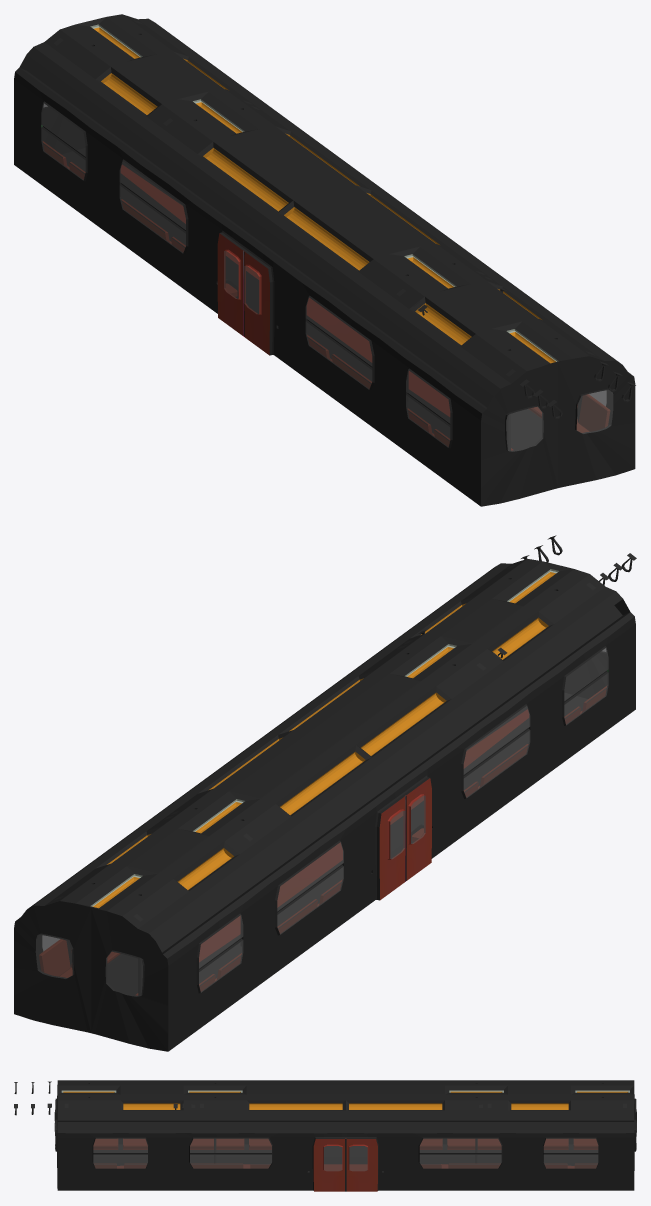
Rendered from subwayV2.obj.
3 views of the same model, one above another, from view 1: azimuth 30°, elevation 25°; view 2: azimuth 150°, elevation 25°; view 3: azimuth 270°, elevation 25° (orthographic). The views are drawn at different scales.
Visible parts, largest first — view 1: Subway_Cube, Handle.001_Cube.004; view 2: Subway_Cube; view 3: Subway_Cube, Handle.001_Cube.004.
Boxes of the visible parts, x1=… form: Subway_Cube: x1=14, y1=14, x2=635, y2=506; Handle.001_Cube.004: x1=54, y1=20, x2=635, y2=418; Subway_Cube: x1=14, y1=559, x2=635, y2=1051; Subway_Cube: x1=54, y1=1080, x2=636, y2=1191; Handle.001_Cube.004: x1=14, y1=1081, x2=626, y2=1115.
Size of the model in its own units: 2.82 by 2.06 by 14.82.
